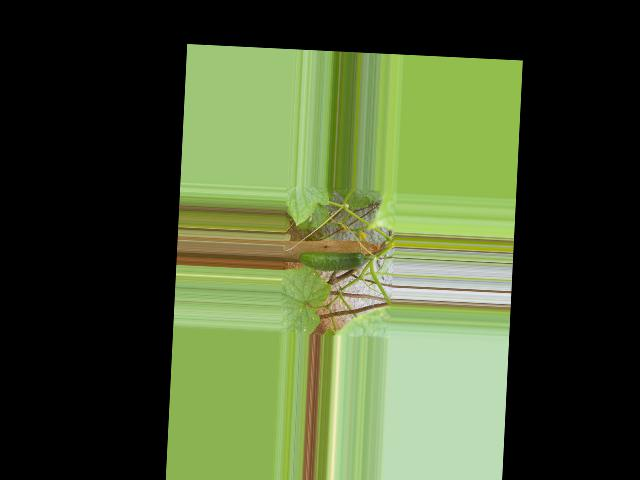cucumber: (298, 249, 365, 272)
